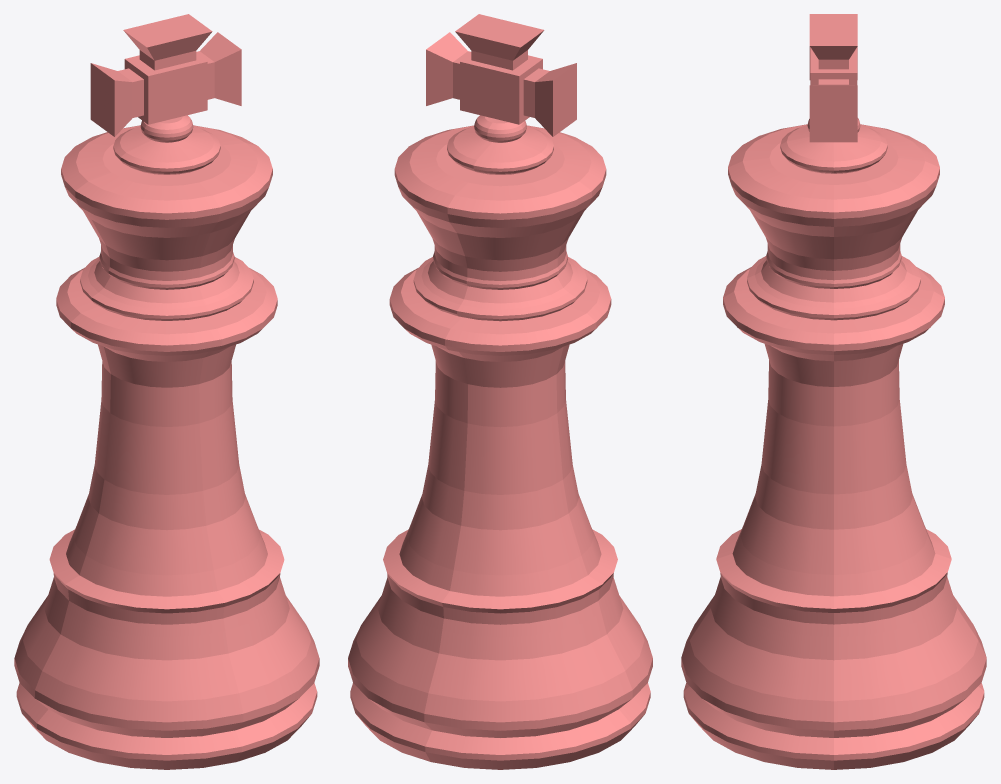
Rendered from king.dae.
3 renders of one model, left to right at view 1: azimuth 30°, elevation 25°; view 2: azimuth 150°, elevation 25°; view 3: azimuth 270°, elevation 25°, orthographic.
Parts seen in each view (by area): view 1: SketchUp (×6); view 2: SketchUp (×6); view 3: SketchUp (×5).
Part boxes in pixels (left/top/right/bottom): SketchUp (×6): left=14, top=14, right=319, bottom=769; SketchUp (×6): left=348, top=14, right=652, bottom=769; SketchUp (×5): left=681, top=14, right=986, bottom=769.
Bounding box in the file's own units: 34.96 × 34.96 × 86.04.
